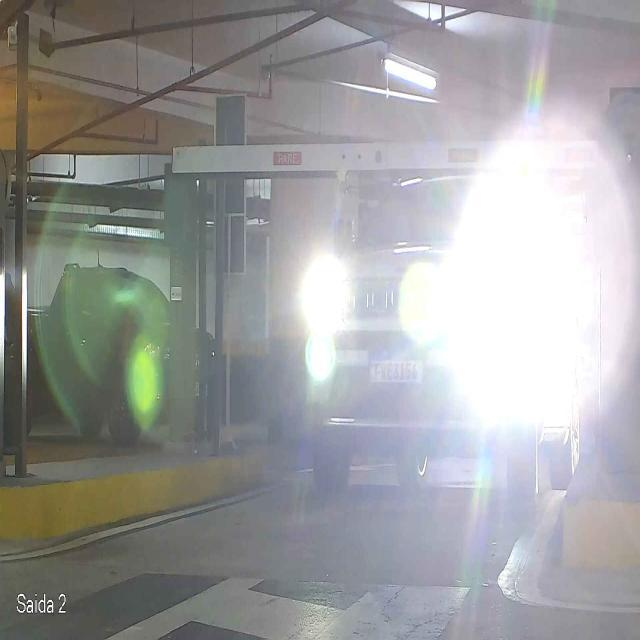mercosul_plate: (366, 350, 425, 386)
